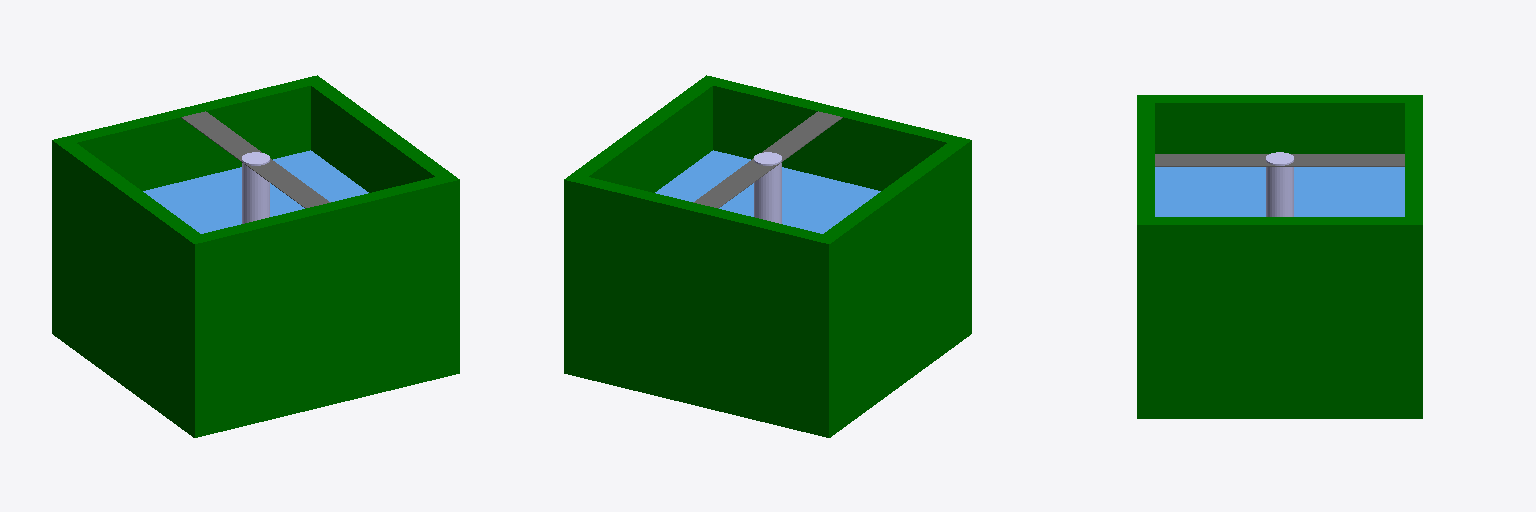
Rendered from chendianchi.obj.
3 renders of one model, left to right at view 1: azimuth 30°, elevation 25°; view 2: azimuth 150°, elevation 25°; view 3: azimuth 270°, elevation 25°, orthographic.
Parts seen in each view (by area): view 1: NONE_DC_Shell; view 2: NONE_DC_Shell; view 3: NONE_DC_Shell.
Boxes of the visible parts, box(x1,y1,x2,y2) form: NONE_DC_Shell: box(52, 75, 459, 437); NONE_DC_Shell: box(564, 75, 971, 437); NONE_DC_Shell: box(1137, 95, 1422, 418).
Bounding box in the file's own units: 8600 × 6050 × 8000.